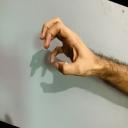hand: (39, 16, 104, 76)
